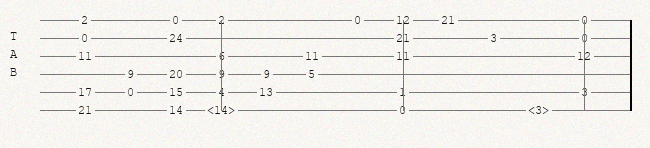0: (81, 32, 92, 44), (127, 86, 138, 98), (172, 14, 183, 26), (354, 14, 365, 26), (399, 104, 410, 116), (581, 14, 592, 26), (581, 32, 592, 44)
1: (399, 86, 410, 98)
11: (78, 50, 96, 62), (305, 50, 323, 62), (396, 50, 414, 62)
12: (396, 14, 414, 26), (577, 50, 595, 62)
13: (259, 86, 277, 98)
14: (169, 104, 187, 116)
15: (169, 86, 187, 98)
17: (78, 86, 96, 98)
2: (81, 14, 92, 26), (218, 14, 229, 26)
20: (169, 68, 187, 80)
21: (78, 104, 96, 116), (396, 32, 414, 44), (441, 14, 459, 26)
24: (169, 32, 187, 44)
3: (490, 32, 501, 44), (581, 86, 592, 98)
4: (218, 86, 229, 98)
5: (308, 68, 319, 80)
6: (218, 50, 229, 62)
9: (127, 68, 138, 80), (218, 68, 229, 80), (263, 68, 274, 80)
harmonic: (207, 104, 239, 117), (528, 104, 553, 117)
